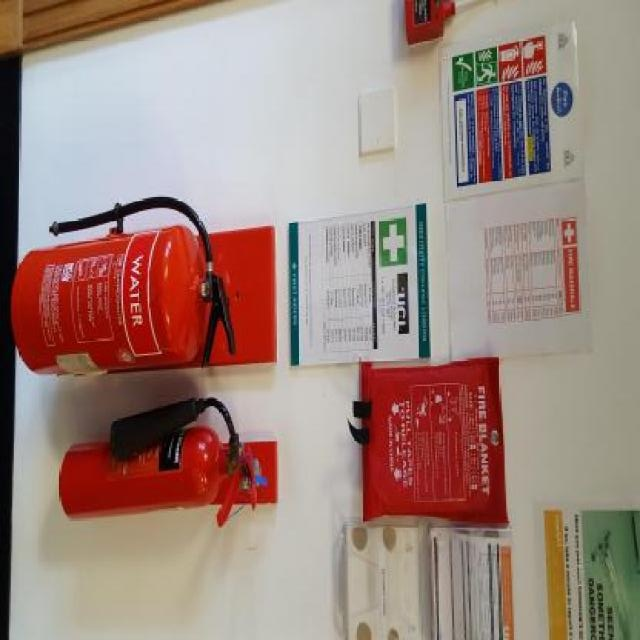fire extinguisher: (10, 195, 236, 376), (60, 398, 257, 527)
